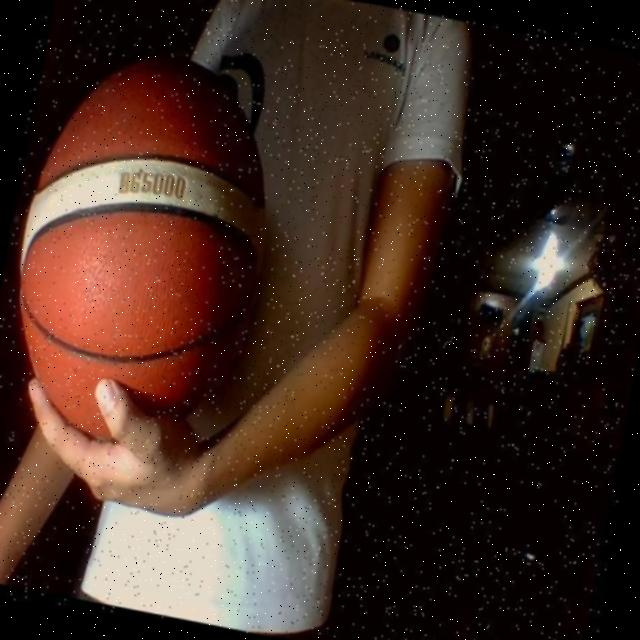ball: (0, 26, 305, 468)
